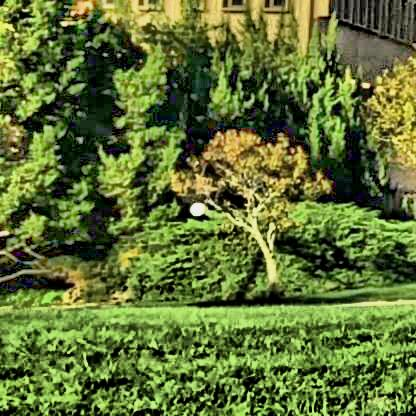golfball: (186, 198, 203, 215)
